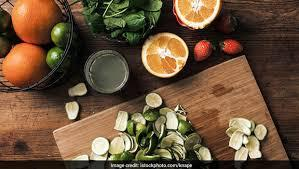Organic: (1, 4, 299, 169)
